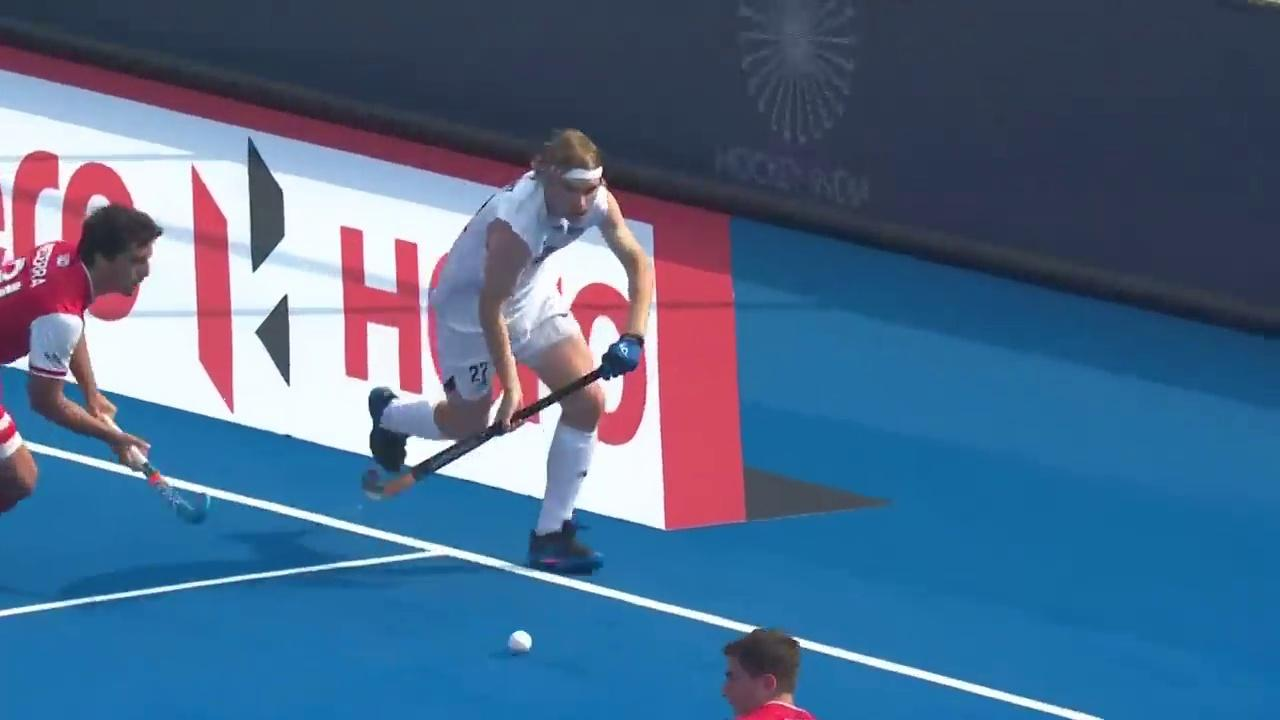ball: (497, 624, 542, 659)
